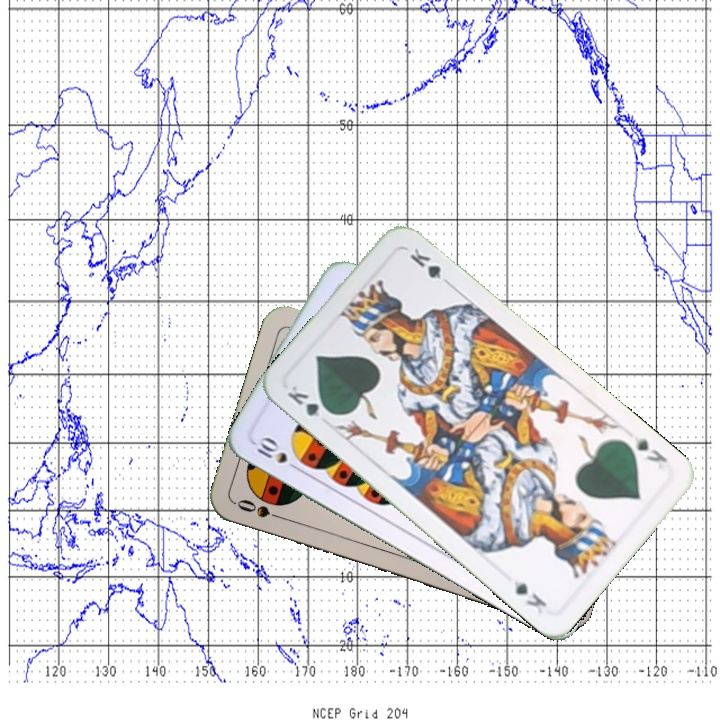GK: (283, 381, 336, 420), (628, 432, 671, 465)
S10: (252, 433, 303, 474)
SO: (233, 495, 290, 523)
